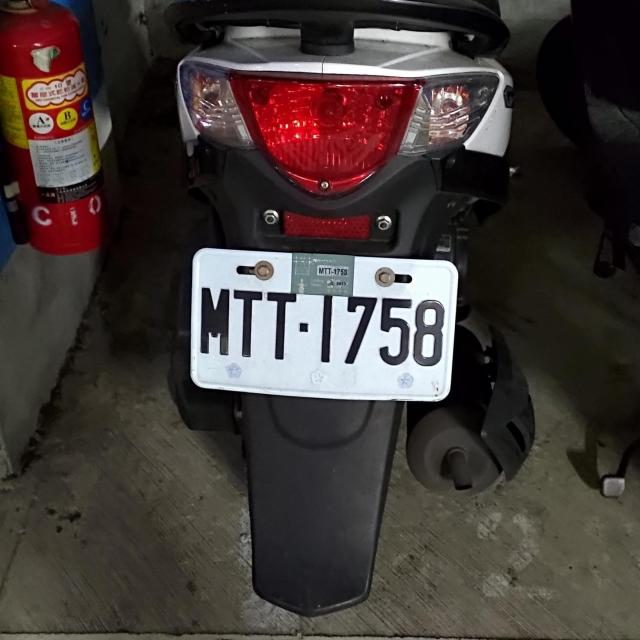W: (184, 246, 457, 402)
